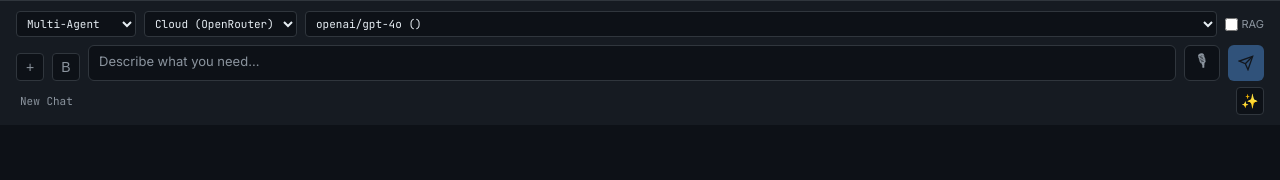
Test case: ChatInput — C2 file upload via /api/upload › shows server error when /api/upload returns 200 with success:false
The image size is (1280, 180).
Click the button titled "Upload local file". click: (30, 67)
box: [16,53,44,81]
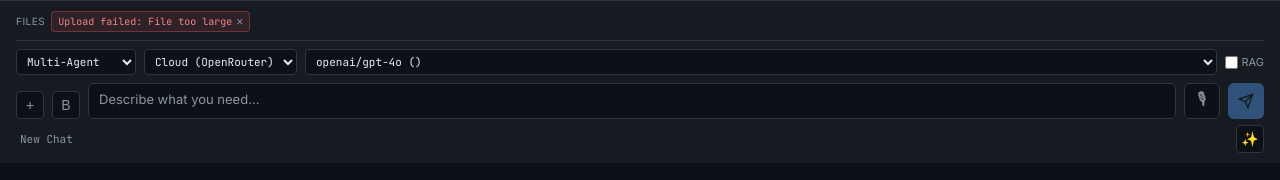
Check: the message shows "File too large", box [148,15,232,28]
